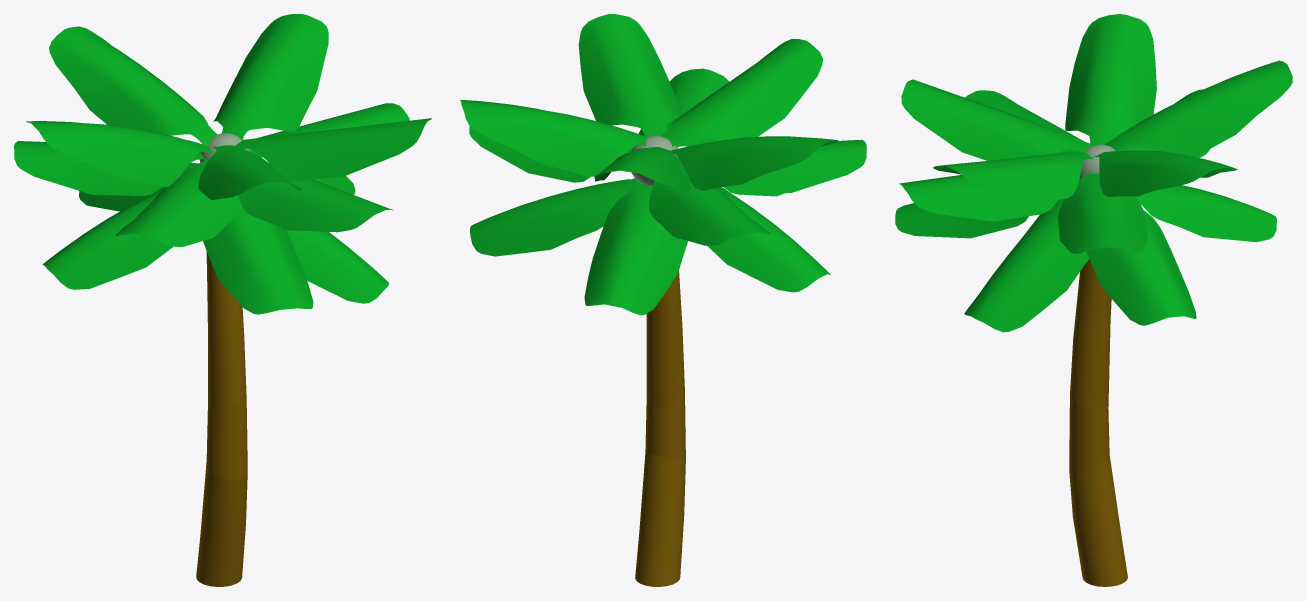
The model's file is tree.fbx.
3 renders of one model, left to right at view 1: azimuth 30°, elevation 25°; view 2: azimuth 150°, elevation 25°; view 3: azimuth 270°, elevation 25°, orthographic. The views are drawn at different scales.
Parts seen in each view (by area): view 1: pCylinder2; view 2: pCylinder2; view 3: pCylinder2.
Boxes of the visible parts, bbox=[...] form: pCylinder2: bbox=[14, 14, 431, 586]; pCylinder2: bbox=[460, 14, 866, 586]; pCylinder2: bbox=[895, 14, 1292, 586].
Bounding box in the file's own units: 13.84 × 18.14 × 13.5.
